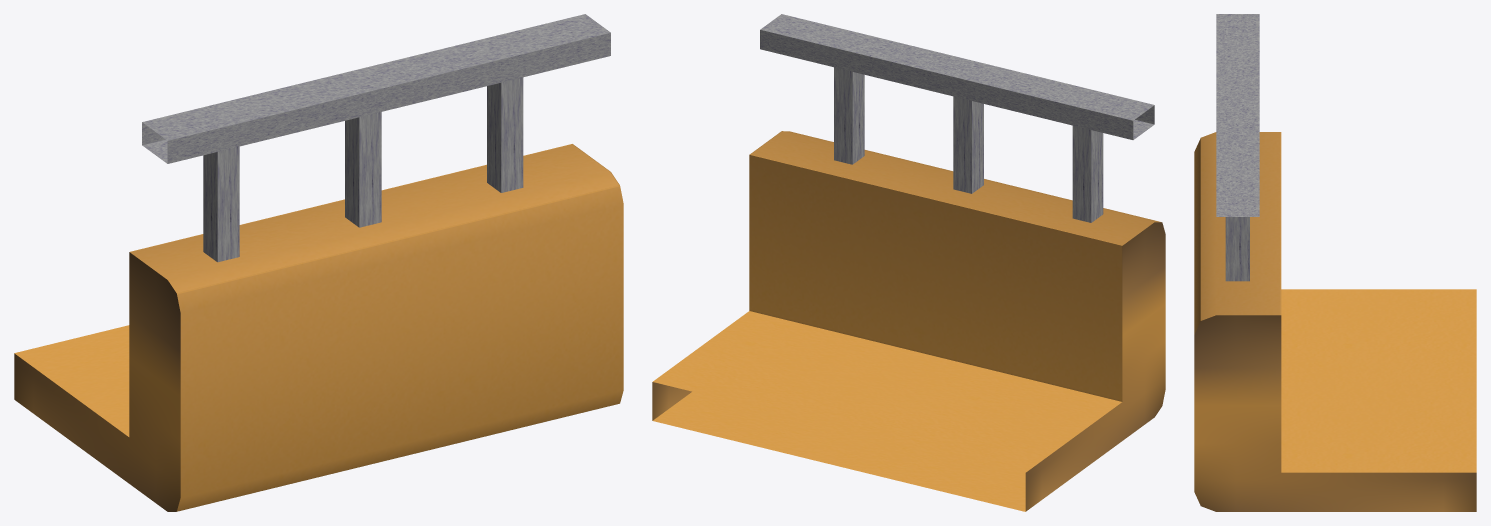
The model's file is VarandaMeio.fbx.
3 renders of one model, left to right at view 1: azimuth 30°, elevation 25°; view 2: azimuth 150°, elevation 25°; view 3: azimuth 270°, elevation 25°, orthographic. The views are drawn at different scales.
Parts seen in each view (by area): view 1: Piso_Parede_Meio, Grade_Superior_Meio, Grade_Repetida_Meio; view 2: Piso_Parede_Meio, Grade_Superior_Meio, Grade_Repetida_Meio; view 3: Piso_Parede_Meio, Grade_Superior_Meio, Grade_Repetida_Meio.
Part boxes in pixels (bbox=[...]): Piso_Parede_Meio: bbox=[14, 144, 623, 511]; Grade_Superior_Meio: bbox=[142, 14, 610, 163]; Grade_Repetida_Meio: bbox=[203, 77, 523, 262]; Piso_Parede_Meio: bbox=[652, 131, 1165, 511]; Grade_Superior_Meio: bbox=[760, 14, 1154, 139]; Grade_Repetida_Meio: bbox=[834, 67, 1103, 222]; Piso_Parede_Meio: bbox=[1194, 132, 1476, 511]; Grade_Superior_Meio: bbox=[1216, 14, 1259, 216]; Grade_Repetida_Meio: bbox=[1225, 217, 1249, 281].
Size of the model in its own units: 200 by 160 by 130.
